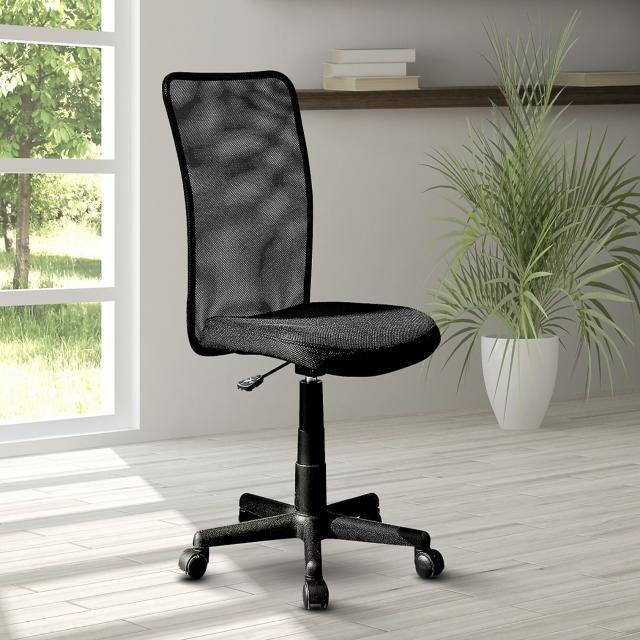chair: (153, 57, 450, 612)
